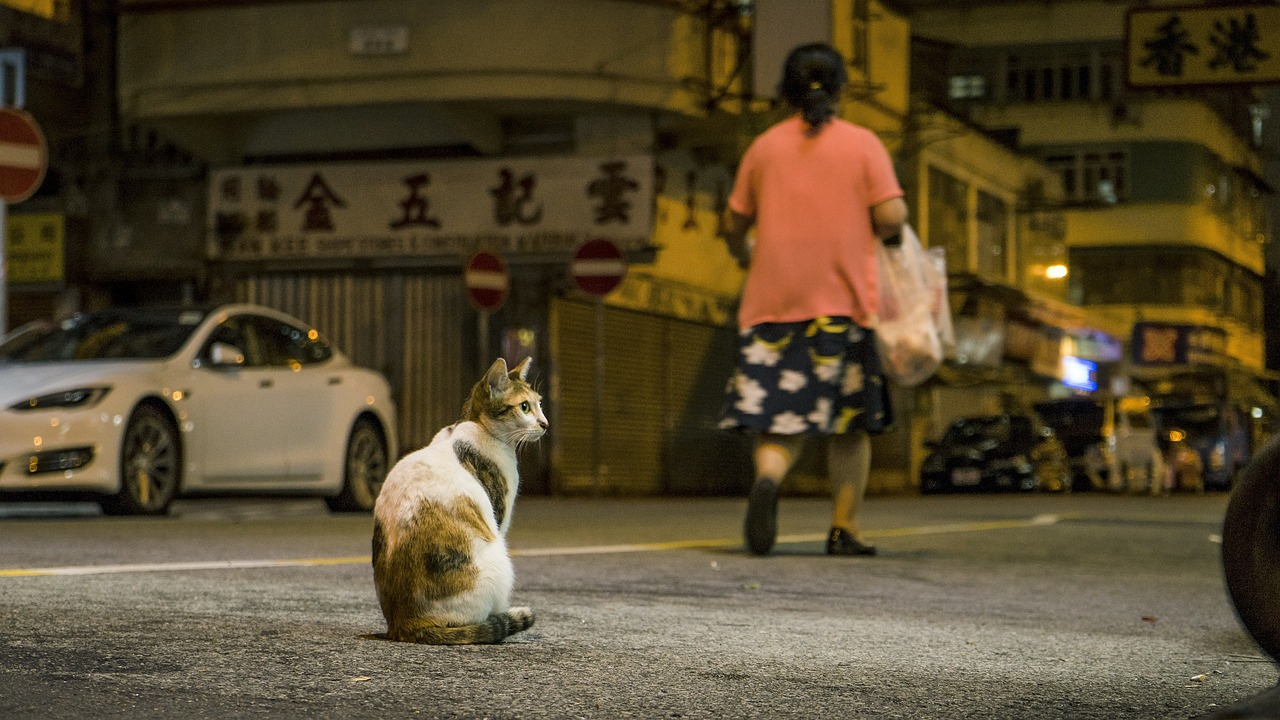Car: (13, 275, 411, 526)
Cat: (349, 307, 594, 659)
Girl: (694, 29, 986, 564)
